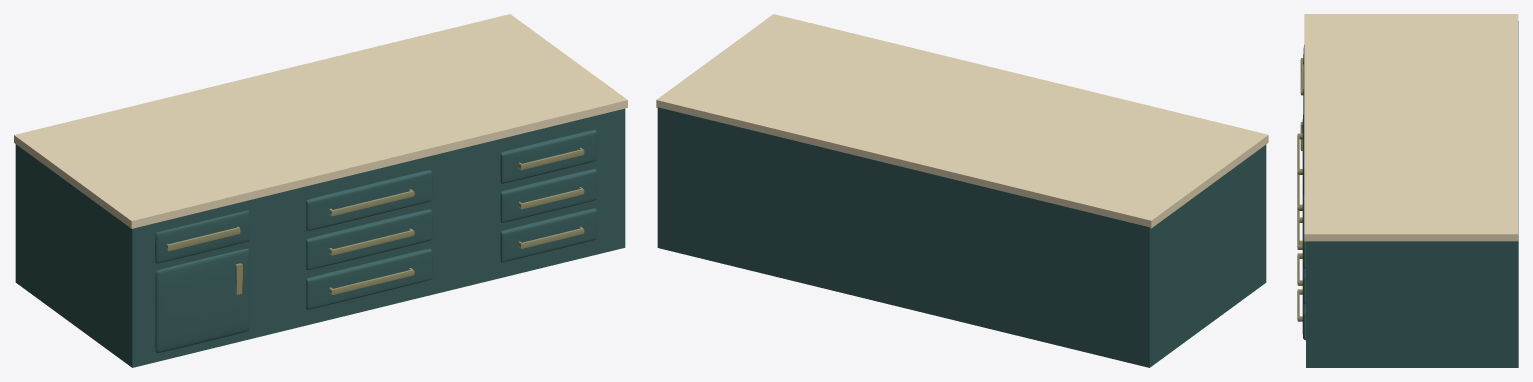
Rendered from mesa1.fbx.
The picture shows the model from 3 angles, left to right: view 1: azimuth 30°, elevation 25°; view 2: azimuth 150°, elevation 25°; view 3: azimuth 270°, elevation 25°; orthographic projection. The views are drawn at different scales.
Visible parts, largest first — view 1: mesa1; view 2: mesa1; view 3: mesa1.
Part boxes in pixels (<box>): mesa1: <box>14,14,627,367</box>; mesa1: <box>656,14,1268,367</box>; mesa1: <box>1297,14,1518,367</box>.
Bounding box in the file's own units: 490 × 140 × 208.
